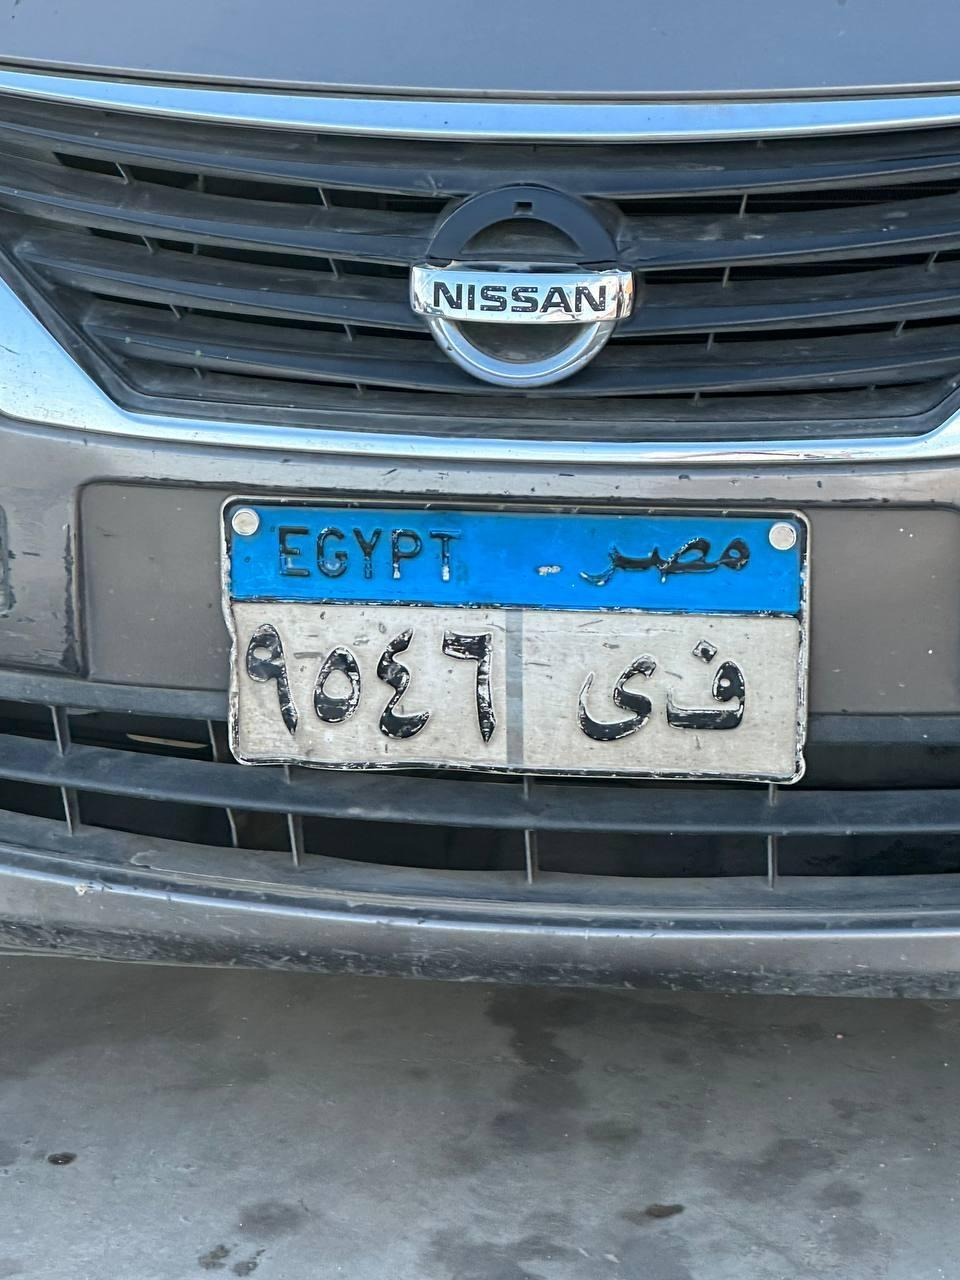4: (366, 628, 450, 774)
5: (310, 648, 376, 736)
6: (440, 600, 510, 746)
9: (246, 620, 314, 750)
F: (666, 616, 764, 756)
License Plate: (218, 495, 813, 786)
Yeeh: (578, 638, 657, 758)
